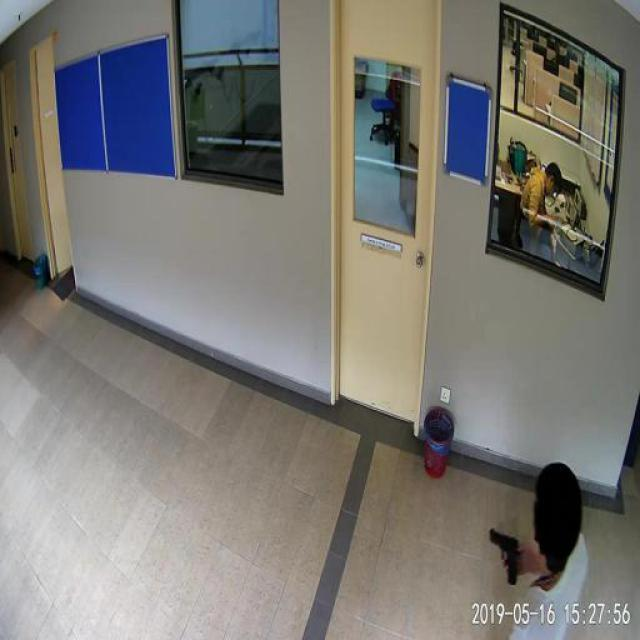weapon: (487, 526, 523, 586)
